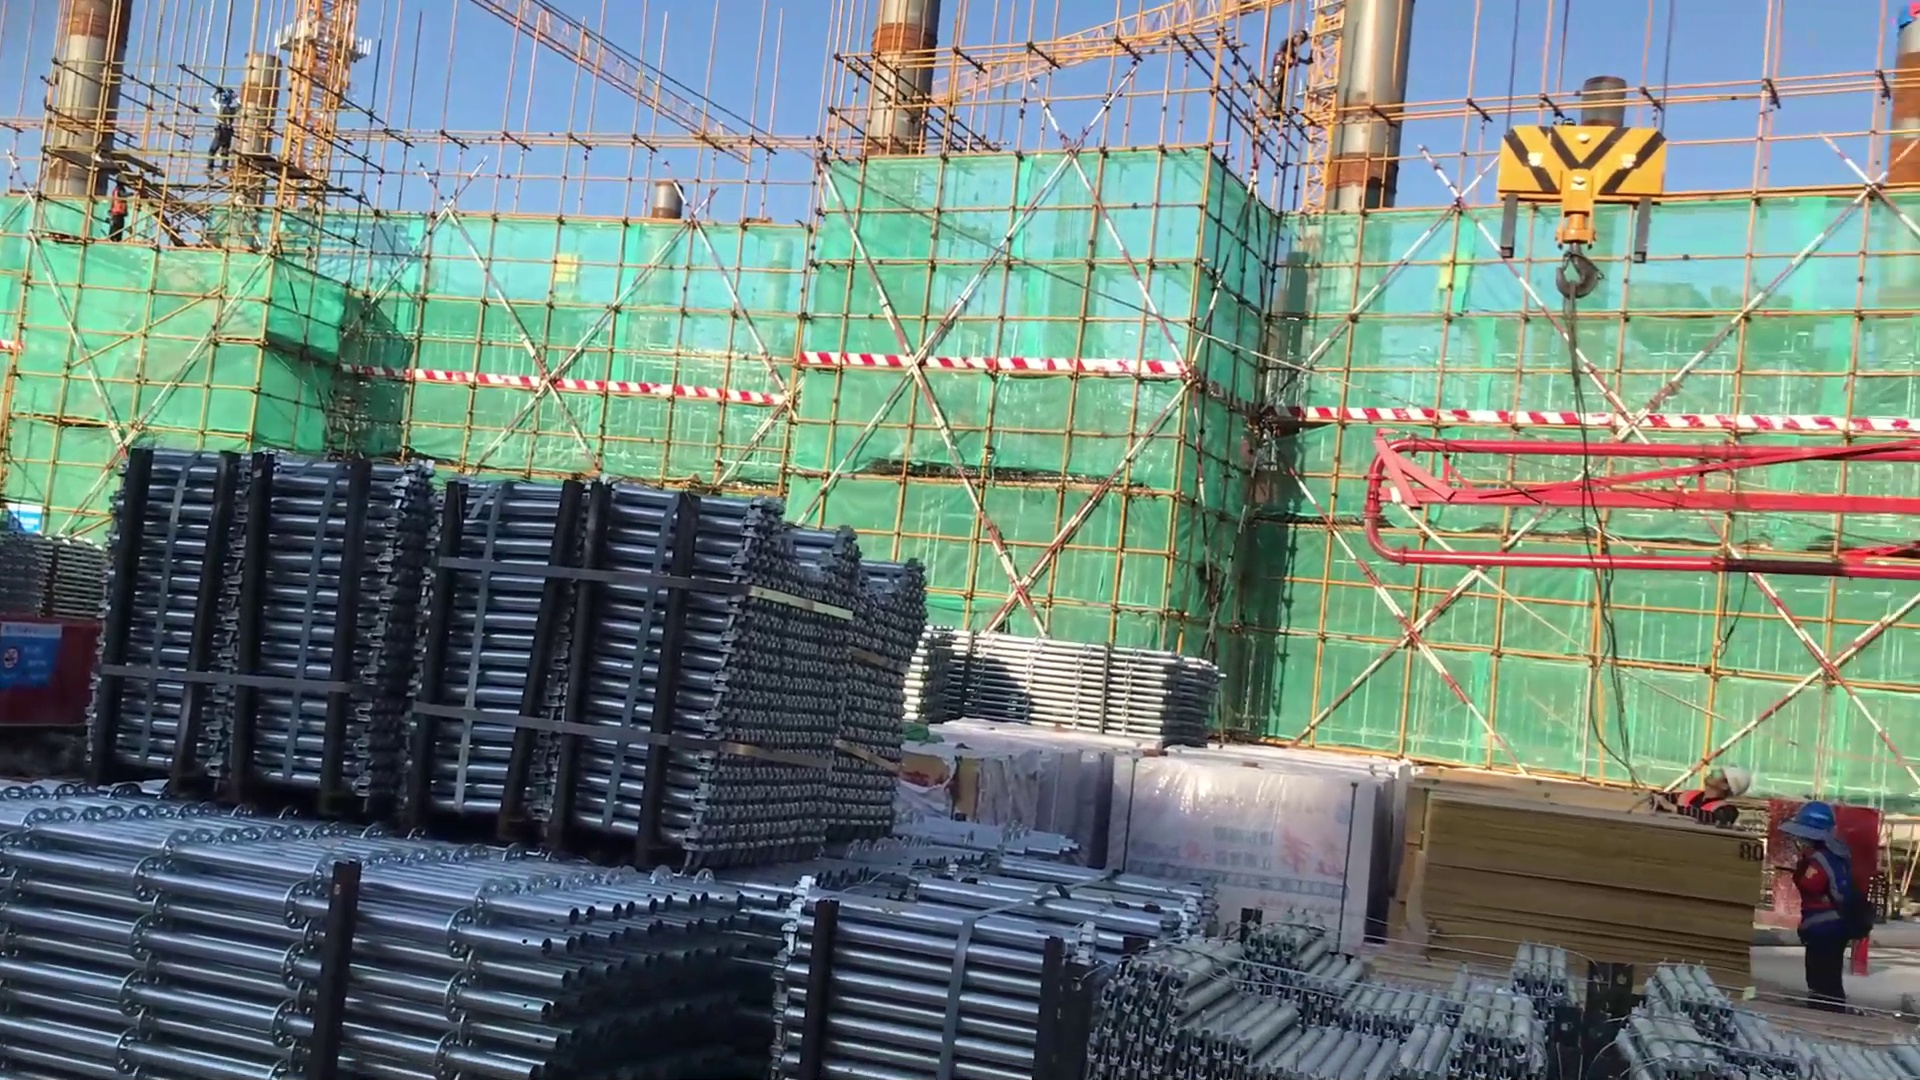board: (1402, 759, 1762, 974)
fence: (1, 602, 113, 747)
helmet: (1779, 800, 1842, 846), (1724, 761, 1750, 799), (113, 173, 129, 183)
hook: (1426, 106, 1697, 330)
person: (1769, 794, 1873, 1012), (1643, 765, 1756, 824), (1264, 18, 1317, 101), (207, 79, 247, 174), (100, 171, 141, 260)
scaffold: (88, 426, 913, 857), (4, 774, 770, 1080), (729, 806, 1356, 1080), (1080, 903, 1920, 1079), (918, 610, 1236, 762)
vest: (1793, 849, 1858, 947), (1675, 788, 1746, 822)
